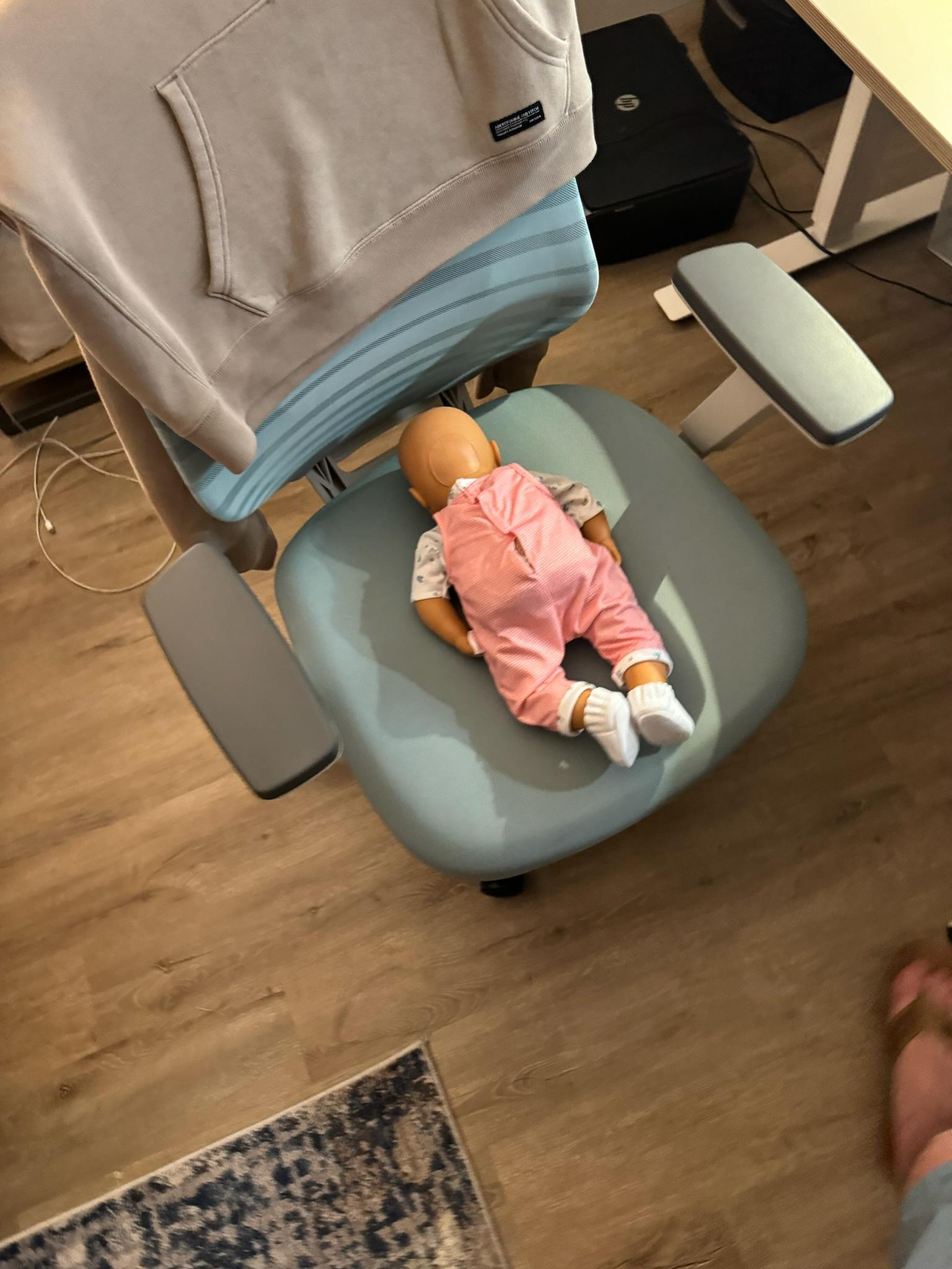baby: (364, 399, 721, 772)
